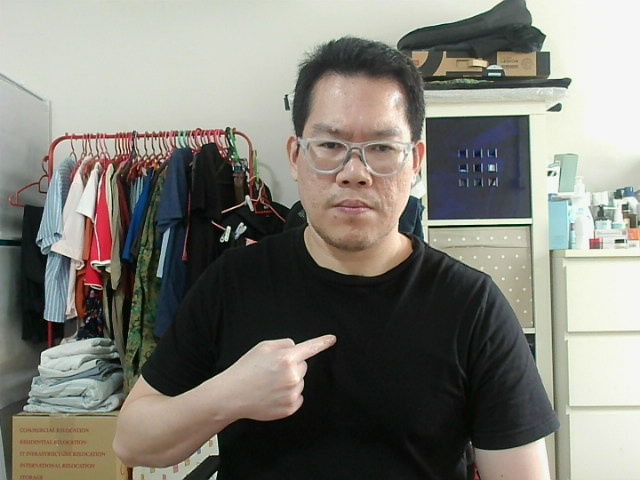I: (231, 339, 332, 407)
